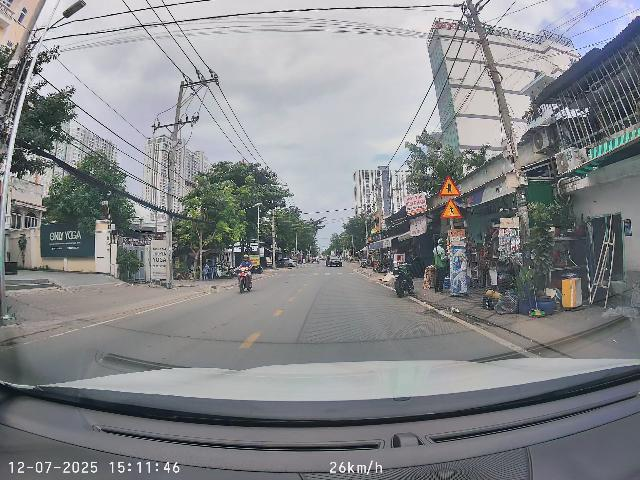207-giao-nhau-voi-duong-khong-uu-tien: (439, 175, 461, 196)
224-duong-nguoi-di-bo-cat-ngang: (441, 197, 462, 219)
